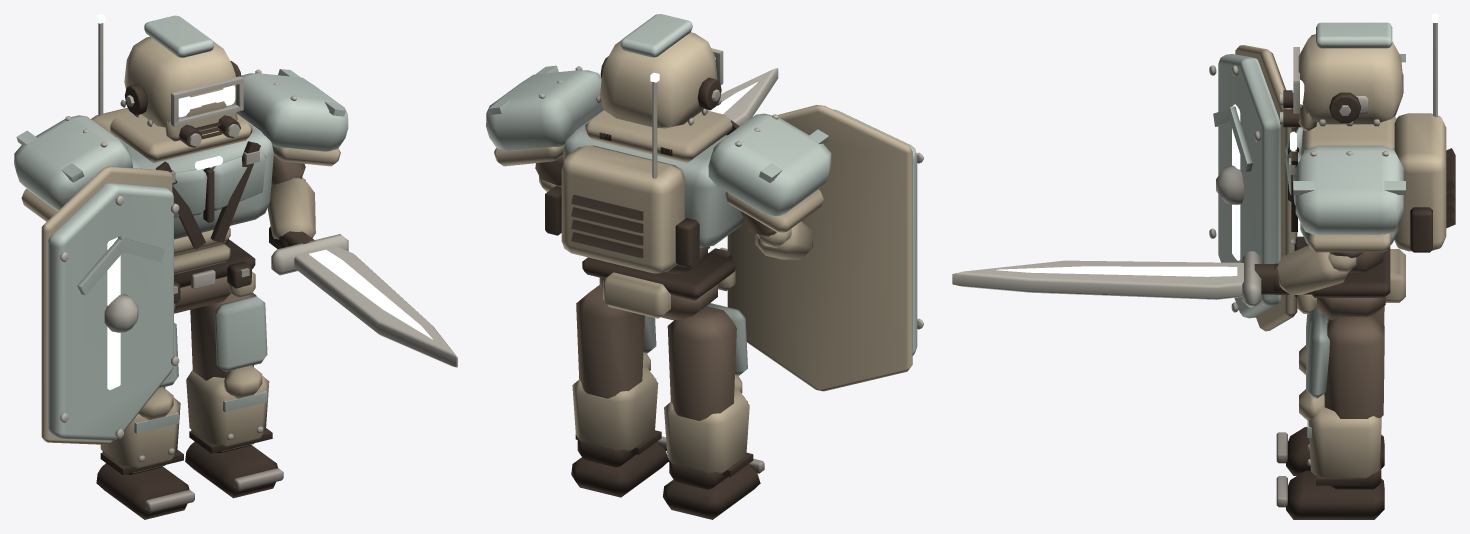
The model's file is vanguard.glb.
3 renders of one model, left to right at view 1: azimuth 30°, elevation 25°; view 2: azimuth 150°, elevation 25°; view 3: azimuth 270°, elevation 25°, orthographic. The views are drawn at different scales.
Visible parts, largest first — view 1: Chest, Armor, Sword_blade, Gear, Helmet, Shin.001, Steel, Thigh_plate.001, Shin, Boot, Boot.001, Sword_vambrace (+14 smaller); view 2: Armor, Chest, Pack, Gear, Helmet, Leg_suit, Leg_suit.001, Shin, Shin.001, Boot.001, Boot, Helmet_crest (+5 smaller); view 3: Chest, Sword_blade, Armor, Helmet, Leg_suit.001, Pack, Gear, Shin.001, Boot.001, Steel, Sword_vambrace, Helmet_crest (+6 smaller).
Boxes of the visible parts, x1,y1,x2,y2 form: Chest: [14, 69, 348, 440]; Armor: [21, 104, 340, 444]; Sword_blade: [271, 234, 457, 367]; Gear: [125, 61, 260, 303]; Helmet: [124, 36, 236, 127]; Shin.001: [186, 365, 269, 451]; Steel: [60, 23, 296, 438]; Thigh_plate.001: [214, 296, 267, 371]; Shin: [100, 387, 180, 473]; Boot: [96, 451, 189, 519]; Boot.001: [185, 429, 277, 498]; Sword_vambrace: [267, 177, 315, 239]; Armor: [494, 105, 912, 391]; Chest: [486, 65, 917, 355]; Pack: [561, 145, 685, 273]; Gear: [545, 56, 812, 300]; Helmet: [600, 32, 717, 128]; Leg_suit: [667, 306, 736, 420]; Leg_suit.001: [576, 285, 644, 398]; Shin: [664, 375, 749, 474]; Shin.001: [572, 352, 658, 452]; Boot.001: [571, 438, 667, 497]; Boot: [663, 460, 760, 519]; Helmet_crest: [620, 14, 692, 57]; Chest: [1213, 54, 1405, 318]; Sword_blade: [952, 251, 1261, 307]; Armor: [1235, 45, 1405, 331]; Helmet: [1298, 34, 1402, 124]; Leg_suit.001: [1324, 316, 1384, 418]; Pack: [1394, 113, 1446, 251]; Gear: [1283, 90, 1455, 297]; Shin.001: [1299, 389, 1381, 479]; Boot.001: [1286, 455, 1384, 519]; Steel: [1209, 23, 1437, 312]; Sword_vambrace: [1276, 245, 1356, 294]; Helmet_crest: [1316, 22, 1392, 48].
Size of the model in its own units: 1.78 by 2.25 by 2.24.
